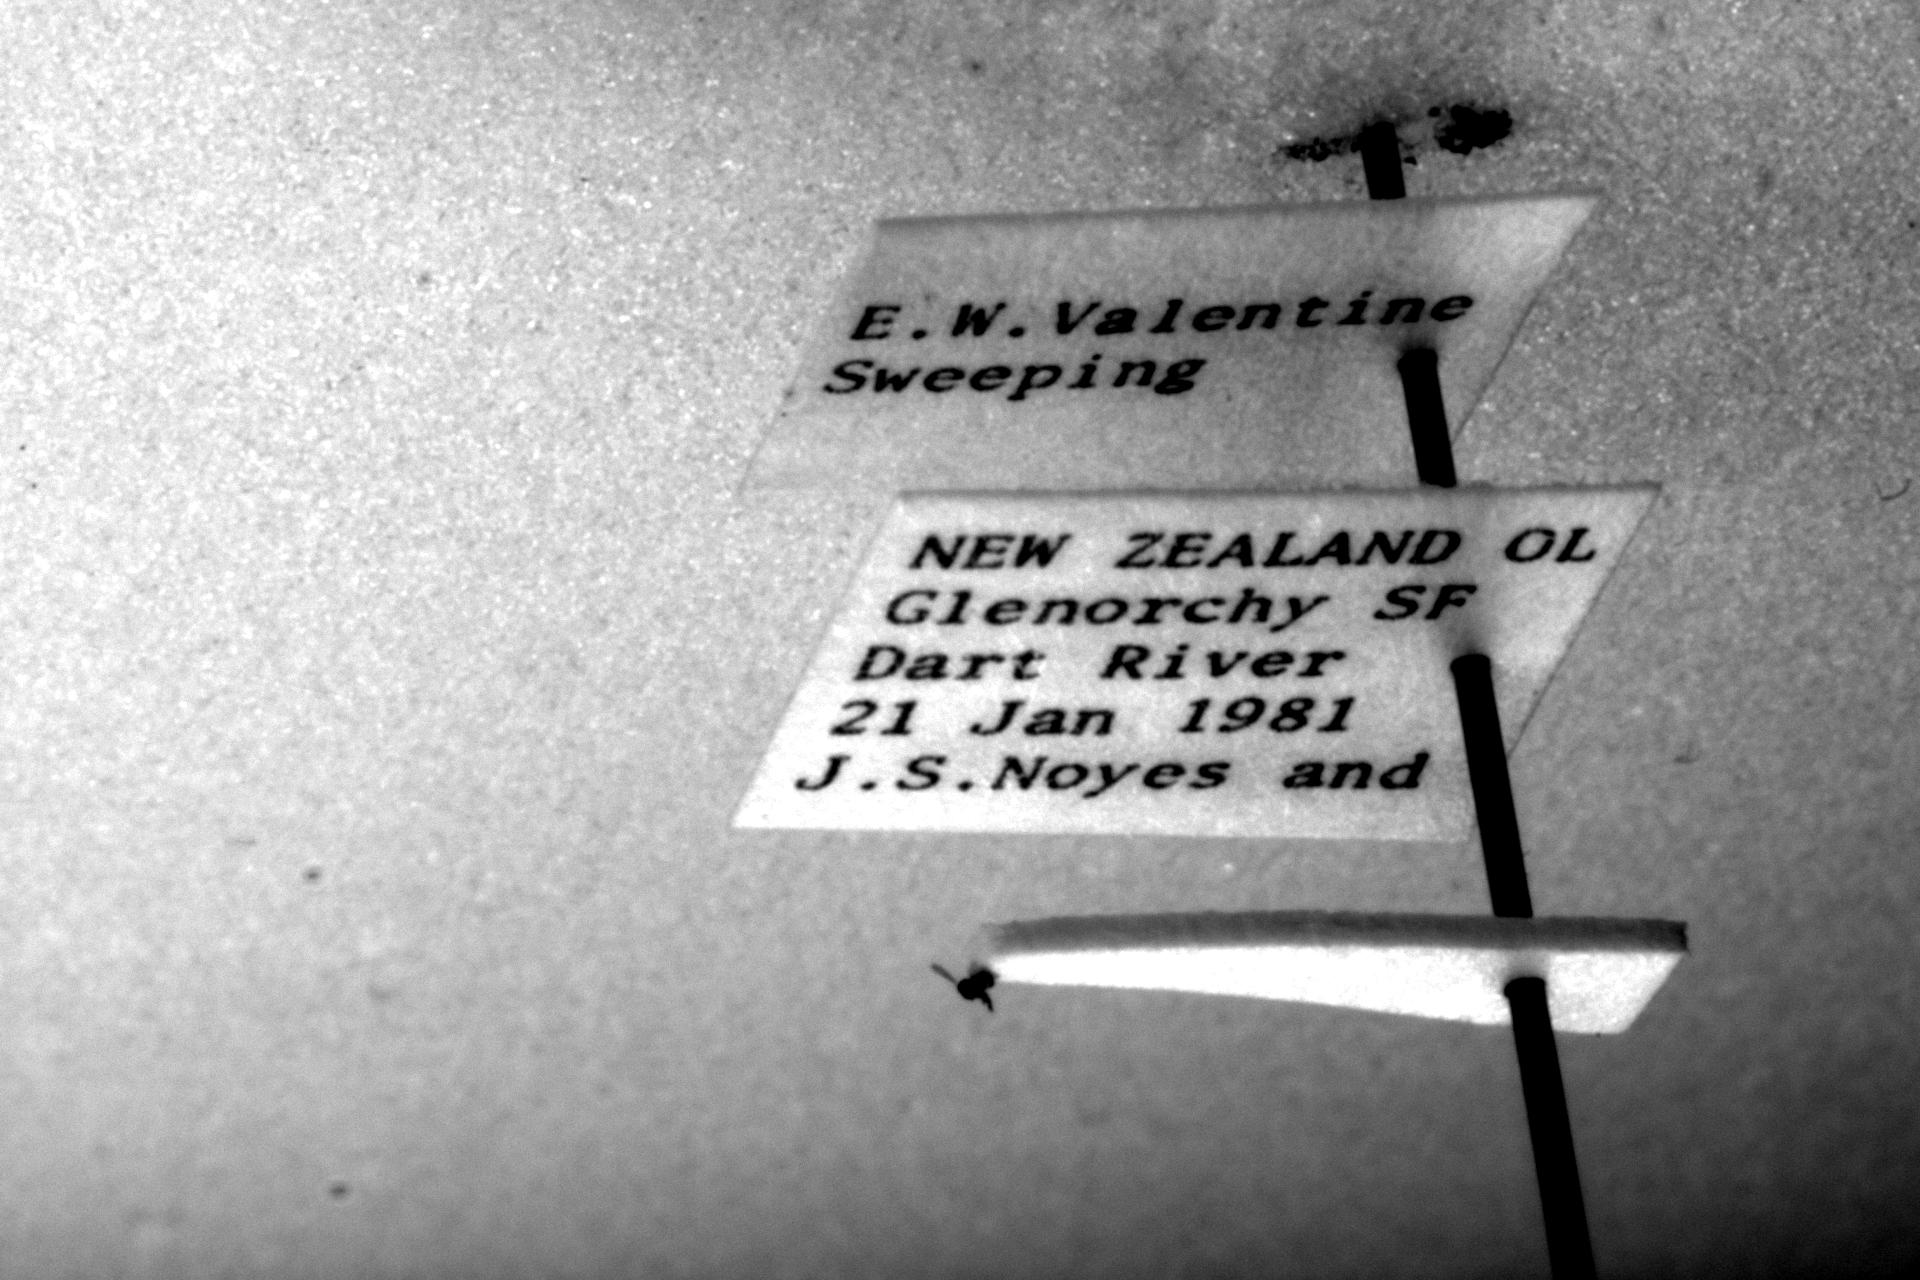typed_label: (734, 487, 1654, 840), (746, 194, 1597, 491)
